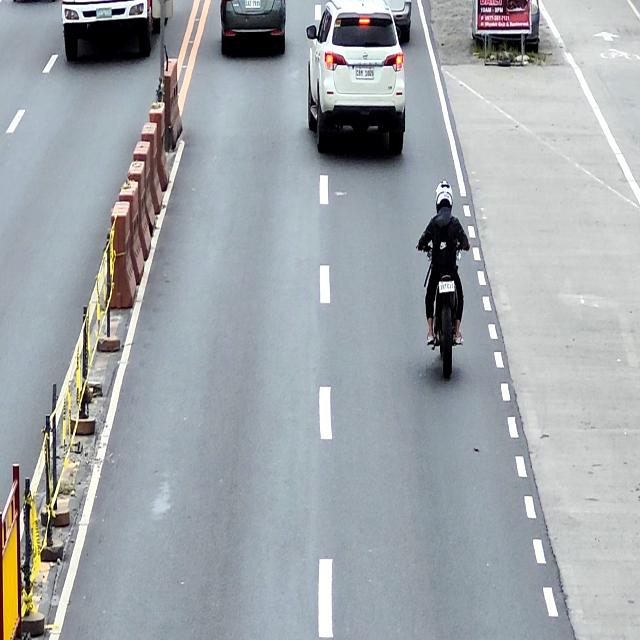Car: (305, 0, 406, 155), (62, 0, 168, 65), (220, 0, 286, 55)
License-Plate: (355, 68, 374, 80), (438, 282, 454, 292), (96, 8, 112, 18), (244, 0, 261, 8)
Motorcycle: (417, 240, 462, 380)
